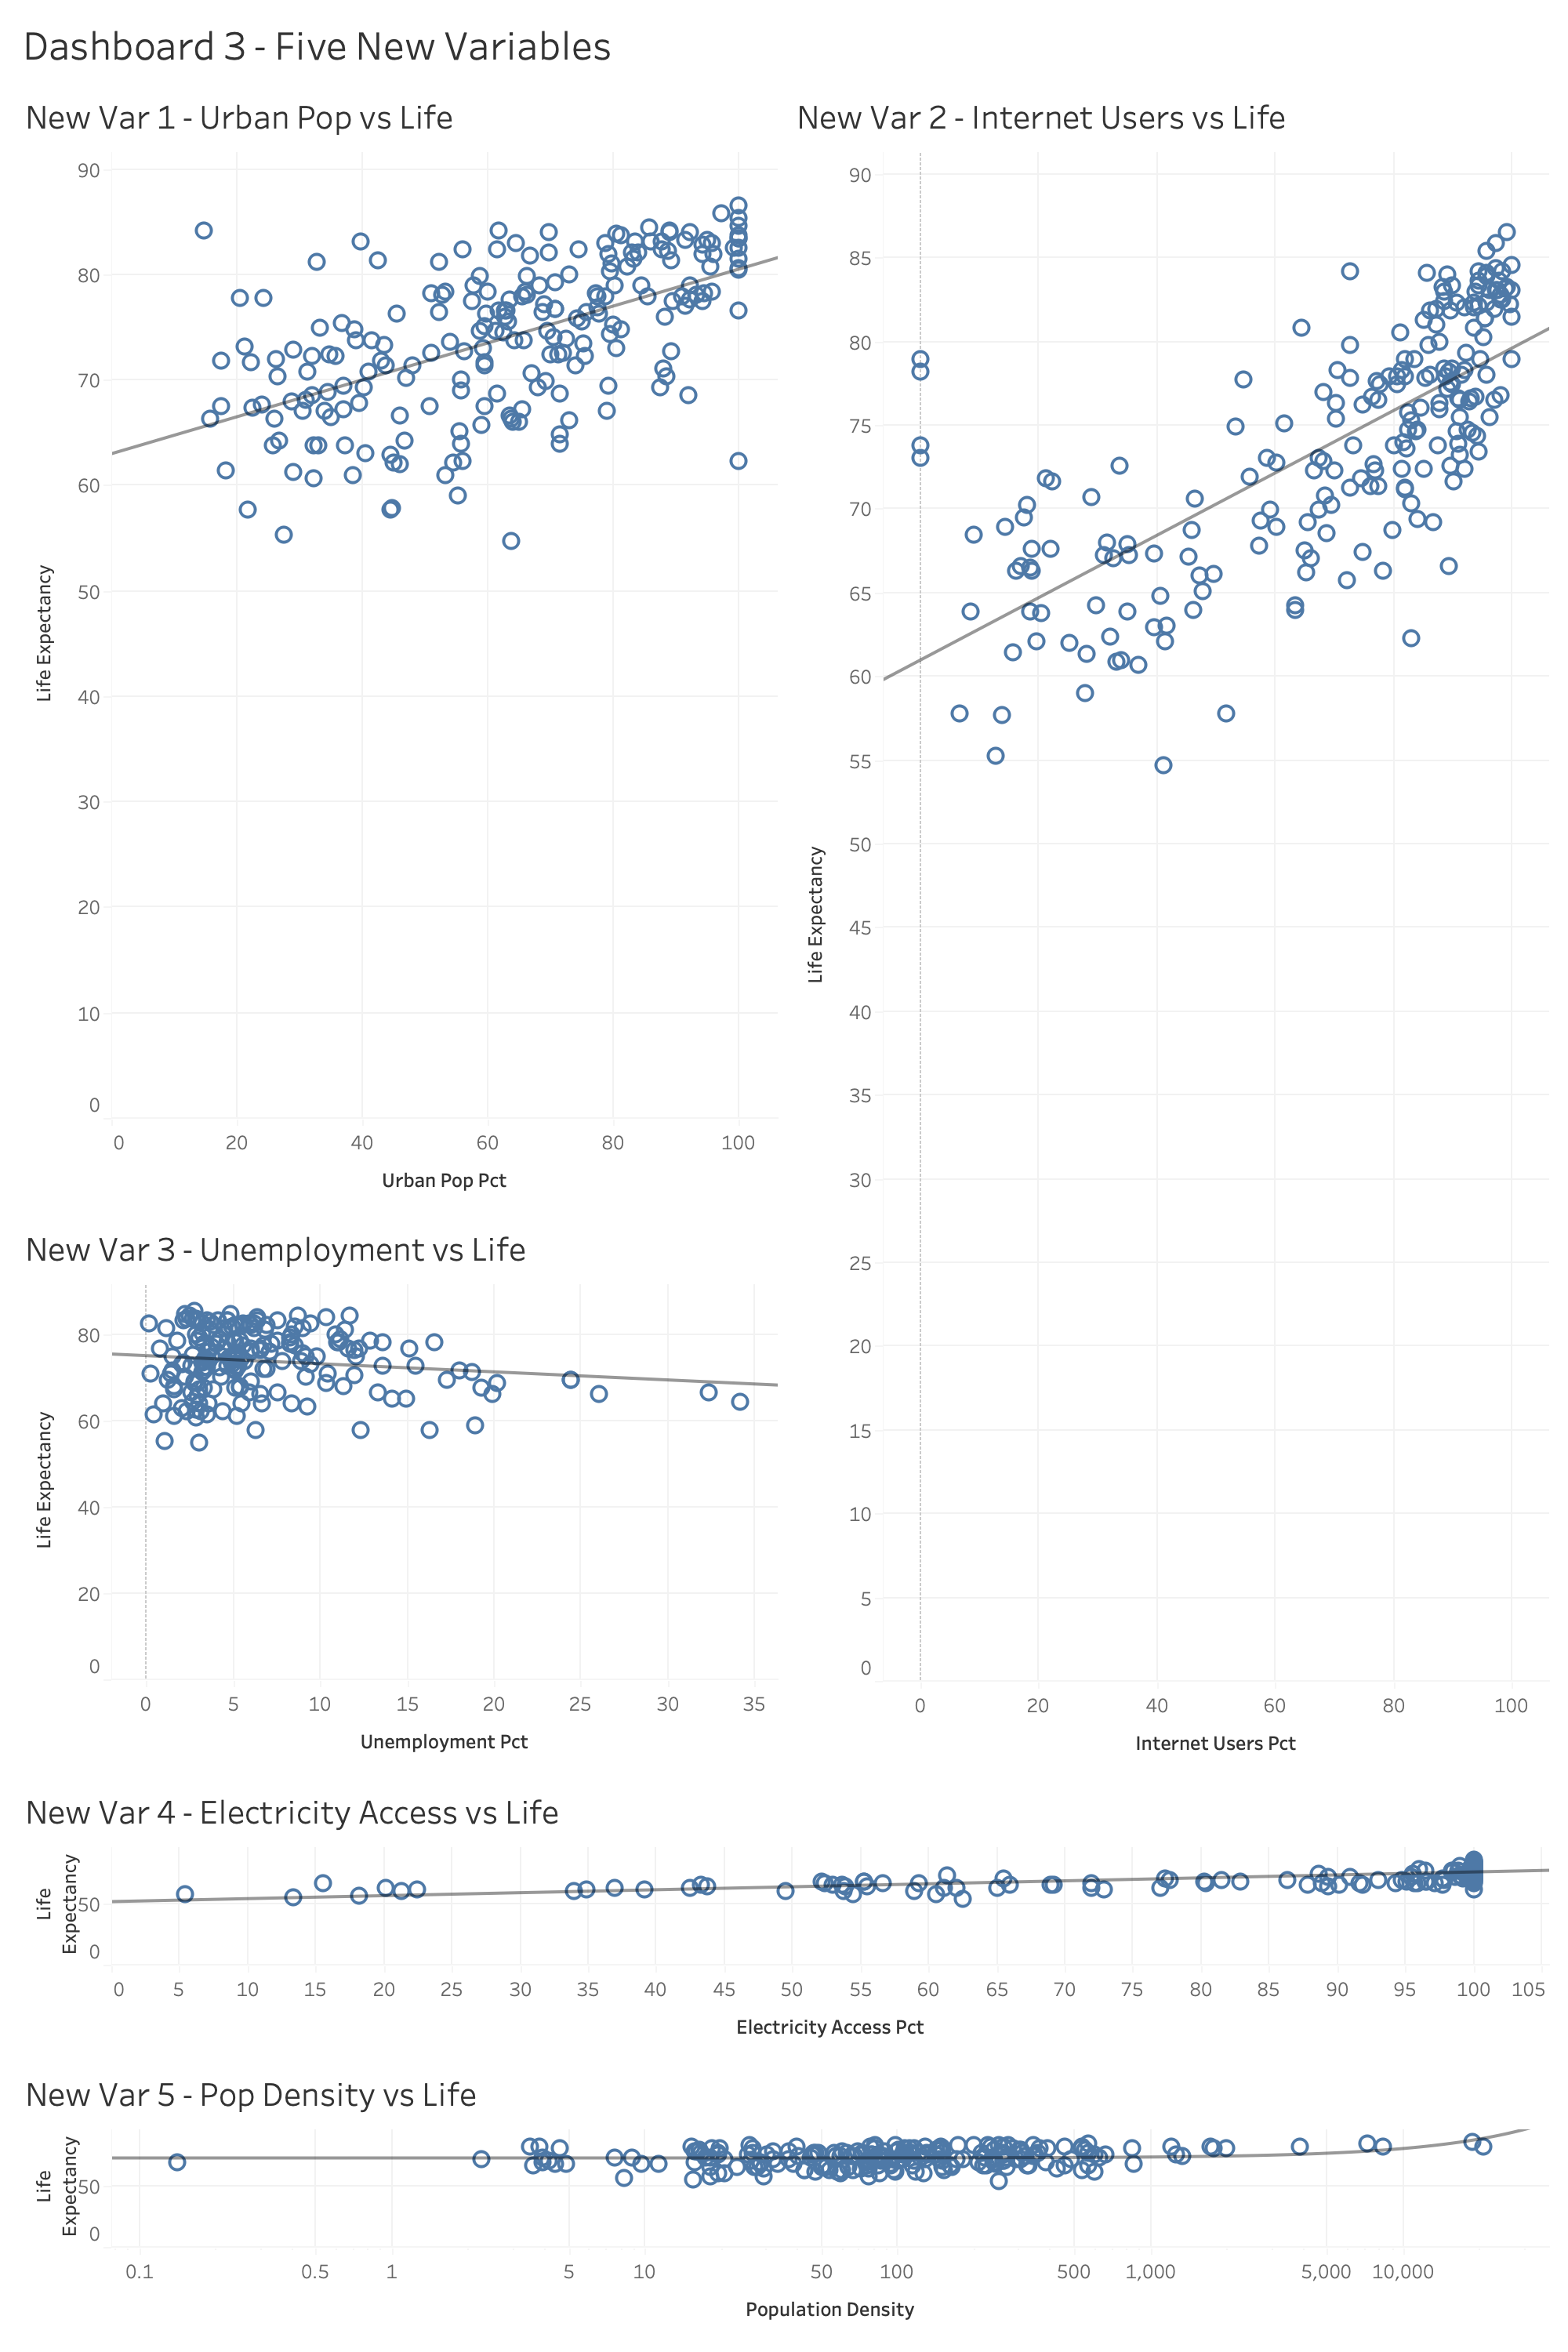

This screenshot's page, from the dashboard's own definition file:
{"tool":"tableau","page":{"name":"Dashboard 3 - New Vars","canvas":[1000,1500],"ordinal":2},"visuals":[{"type":"title","box":[8,8,984,42]},{"type":"worksheet","title":"New Var 1 - Urban Pop vs Life","mark":"Automatic","rows":["life_expectancy"],"cols":["urban_pop_pct"],"box":[8,50,492,722.5]},{"type":"worksheet","title":"New Var 2 - Internet Users vs Life","mark":"Automatic","rows":["life_expectancy"],"cols":["internet_users_pct"],"box":[500,50,492,1080.8]},{"type":"worksheet","title":"New Var 3 - Unemployment vs Life","mark":"Automatic","rows":["life_expectancy"],"cols":["unemployment_pct"],"box":[8,772.5,492,358.3]},{"type":"worksheet","title":"New Var 4 - Electricity Access vs Life","mark":"Automatic","rows":["life_expectancy"],"cols":["electricity_access_pct"],"box":[8,1130.7,984,180.6]},{"type":"worksheet","title":"New Var 5 - Pop Density vs Life","mark":"Automatic","rows":["life_expectancy"],"cols":["population_density"],"box":[8,1311.4,984,180.6]}]}

Visuals, with their boxes in screenshot pixels (x1, y1, x2, y2), scaled from the page's 1000x1500 canvas onto the 1568x2352 screenshot:
title: <region>13, 13, 1555, 78</region>
"New Var 1 - Urban Pop vs Life" worksheet: <region>13, 78, 784, 1211</region>
"New Var 2 - Internet Users vs Life" worksheet: <region>784, 78, 1555, 1773</region>
"New Var 3 - Unemployment vs Life" worksheet: <region>13, 1211, 784, 1773</region>
"New Var 4 - Electricity Access vs Life" worksheet: <region>13, 1773, 1555, 2056</region>
"New Var 5 - Pop Density vs Life" worksheet: <region>13, 2056, 1555, 2339</region>
